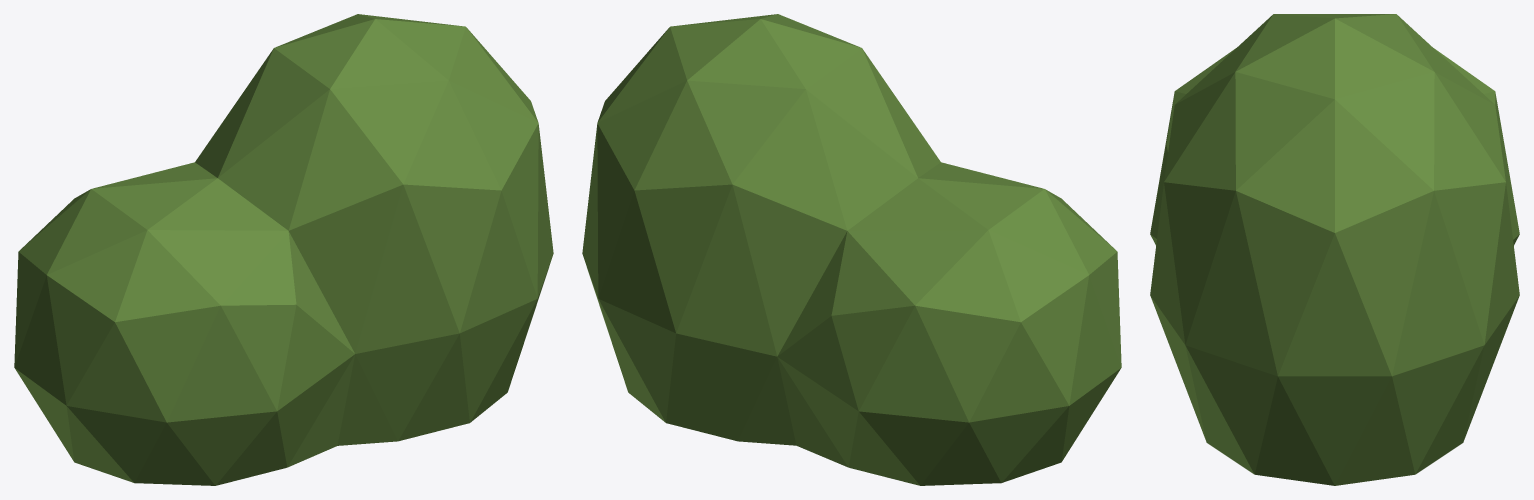
The model's file is Bush02.fbx.
3 views of the same model, side by side, from view 1: azimuth 30°, elevation 25°; view 2: azimuth 150°, elevation 25°; view 3: azimuth 270°, elevation 25° (orthographic). The views are drawn at different scales.
Parts seen in each view (by area): view 1: Bush02; view 2: Bush02; view 3: Bush02.
Boxes of the visible parts, box(x1,y1,x2,y2) form: Bush02: box(14, 14, 553, 485); Bush02: box(582, 14, 1121, 485); Bush02: box(1150, 14, 1519, 485).
Size of the model in its own units: 2.2 by 1.59 by 1.31.
